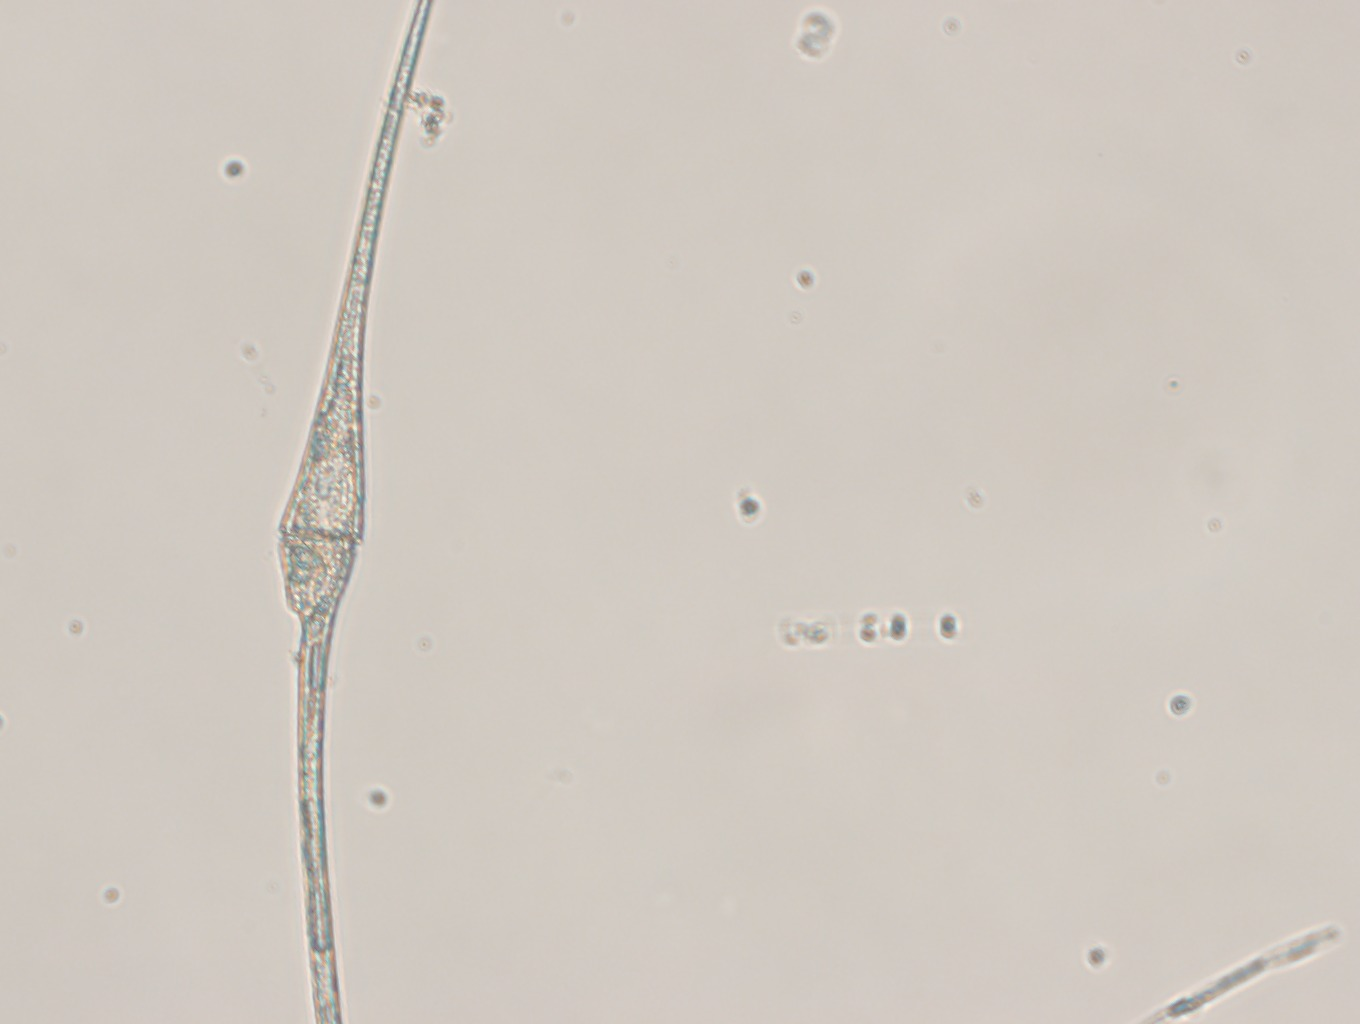ceratium fusus: (239, 1, 441, 1024)
